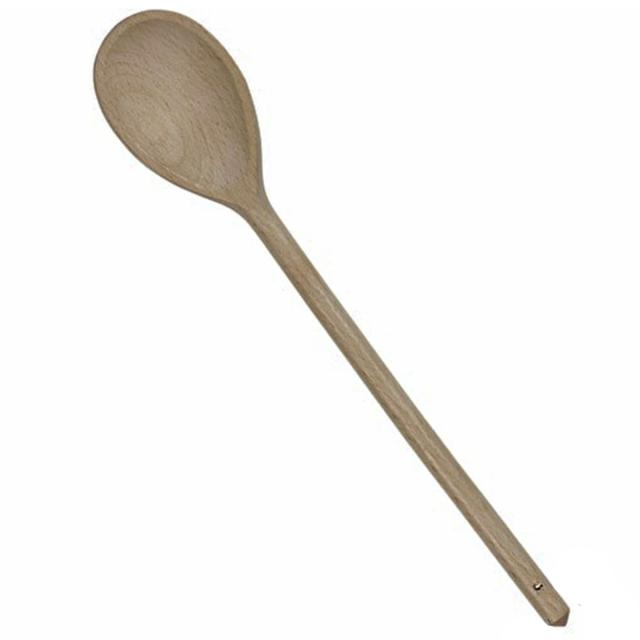spoon: (87, 4, 580, 638)
